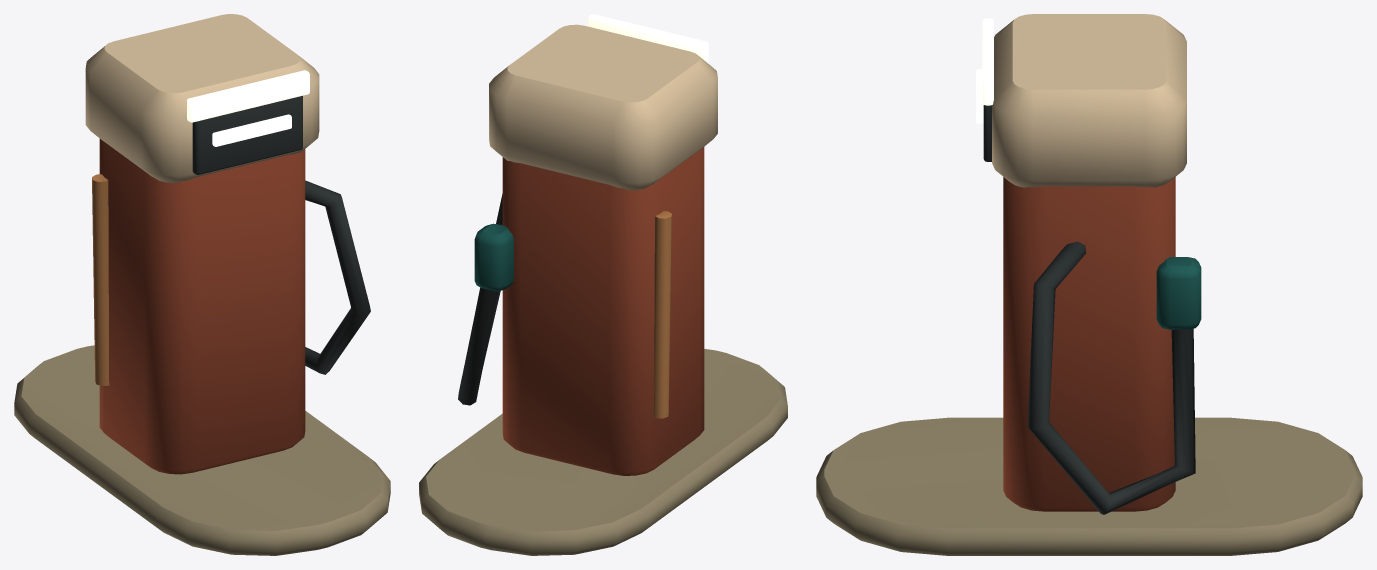
File: pump.glb
3 renders of one model, left to right at view 1: azimuth 30°, elevation 25°; view 2: azimuth 150°, elevation 25°; view 3: azimuth 270°, elevation 25°, orthographic. The views are drawn at different scales.
Parts seen in each view (by area): view 1: Pump; view 2: Pump; view 3: Pump.
Part boxes in pixels (x1,y1,x2,y2): Pump: (14,14,390,555); Pump: (419,14,787,555); Pump: (816,14,1362,555).
Bounding box in the file's own units: 1.01 × 1.56 × 1.71.
